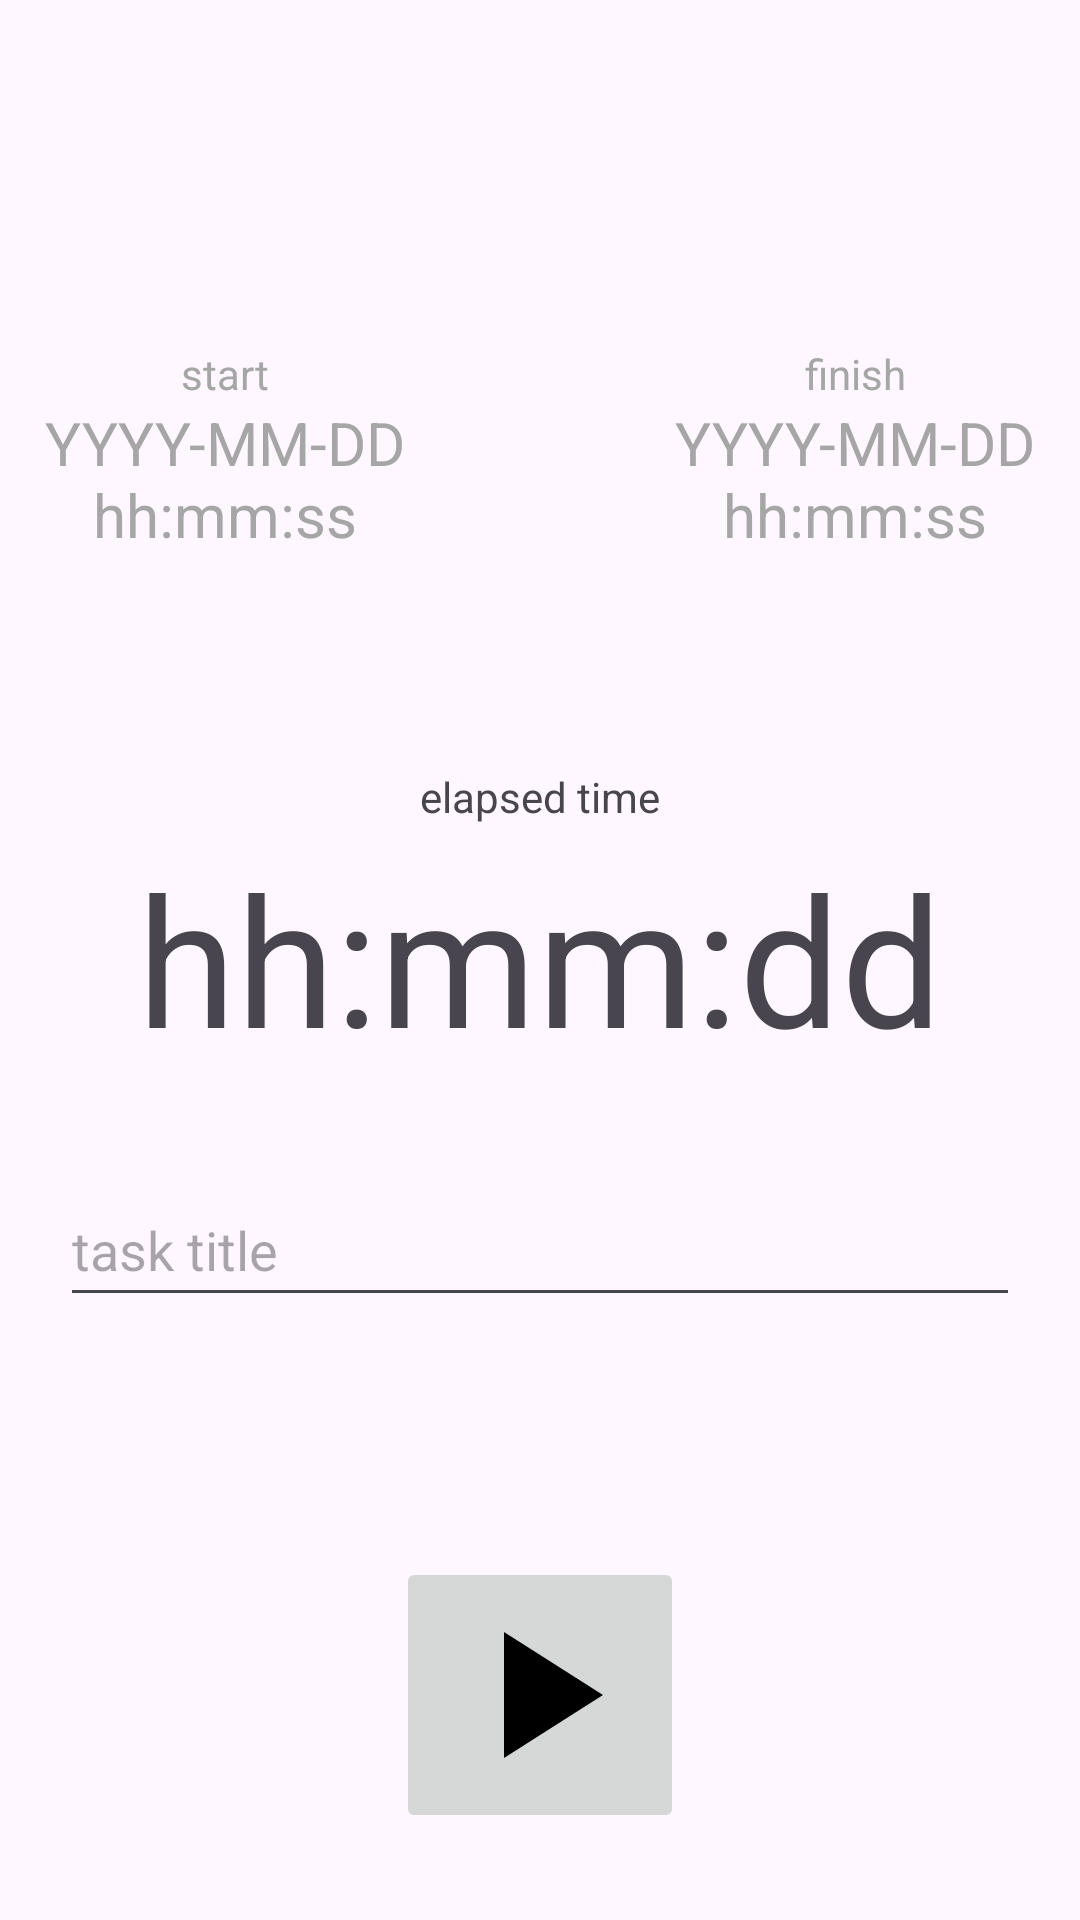

Where to tap for icons on this 1080w x 1920h app screen, as (x,y):
play arrow: (540,1695)
